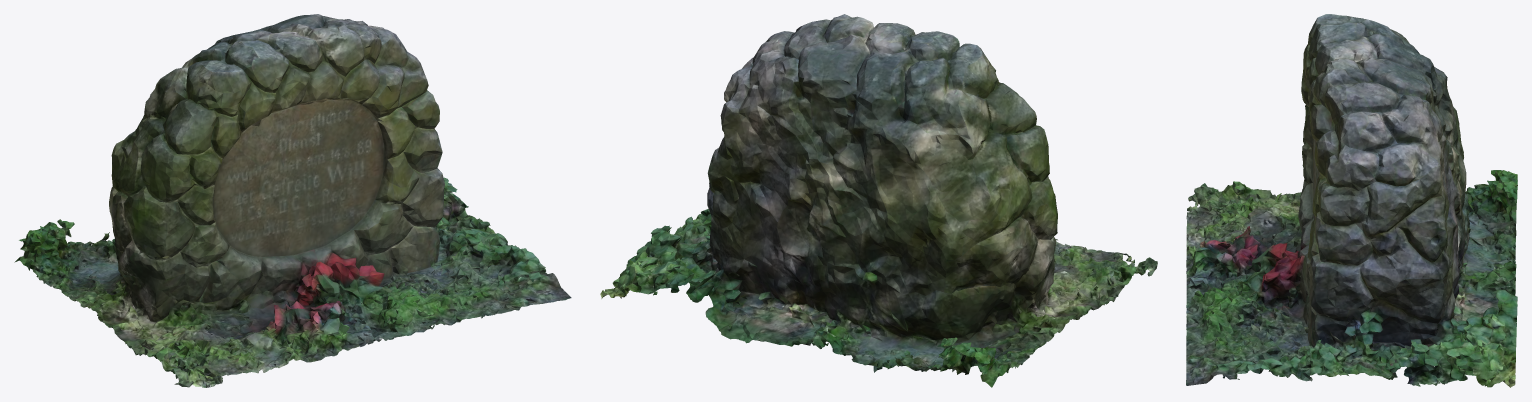
3 renders of one model, left to right at view 1: azimuth 30°, elevation 25°; view 2: azimuth 150°, elevation 25°; view 3: azimuth 270°, elevation 25°, orthographic. The views are drawn at different scales.
Parts seen in each view (by area): view 1: 512.25k; view 2: 512.25k; view 3: 512.25k.
Part boxes in pixels (box(x1,y1,x2,y2)): 512.25k: box(14, 14, 571, 387); 512.25k: box(600, 14, 1157, 387); 512.25k: box(1186, 14, 1517, 387).
Bounding box in the file's own units: 3.67 × 2.35 × 2.76.
1 material, 1 textured.
